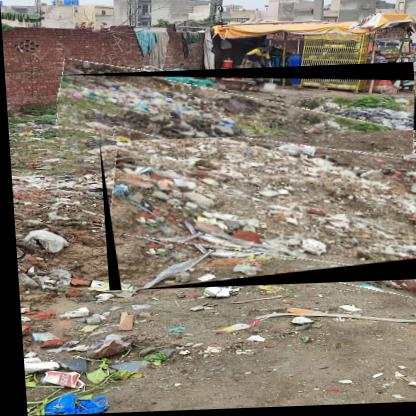Garbage: (98, 133, 416, 294), (55, 66, 416, 177)
